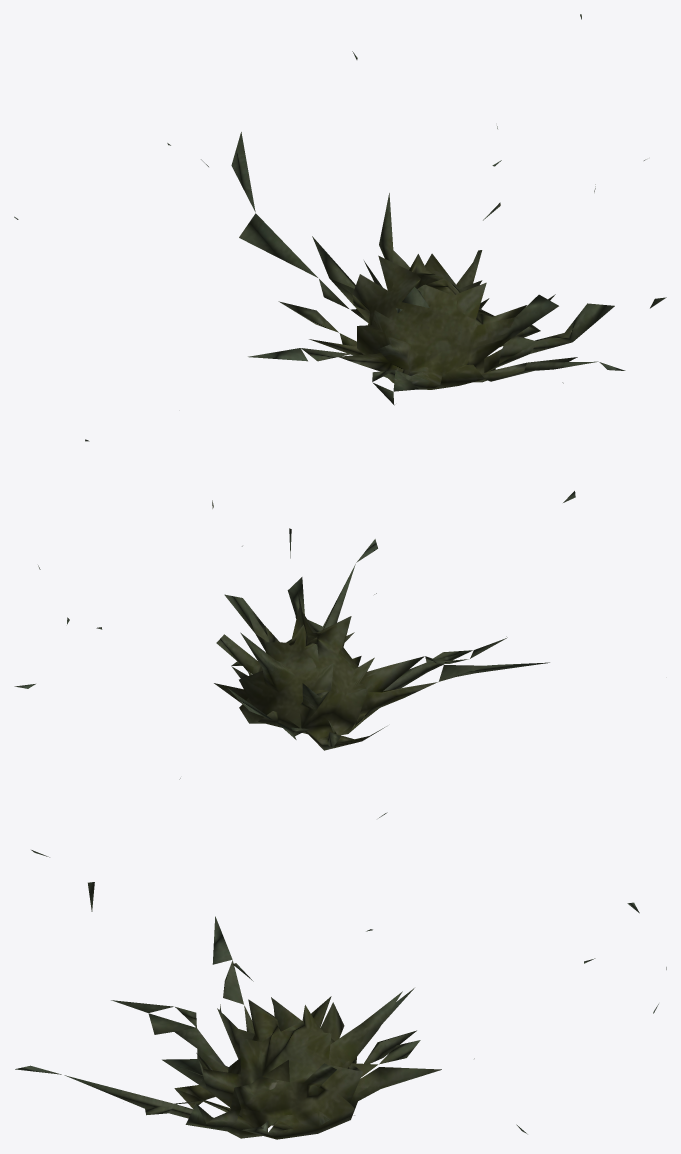
The model's file is desert-bush-1.glb.
3 renders of one model, top to bottom at view 1: azimuth 30°, elevation 25°; view 2: azimuth 150°, elevation 25°; view 3: azimuth 270°, elevation 25°, orthographic. The views are drawn at different scales.
Parts seen in each view (by area): view 1: geometry_0; view 2: geometry_0; view 3: geometry_0.
Boxes of the visible parts, box(x1,y1,x2,y2) form: geometry_0: box(14, 14, 666, 405); geometry_0: box(14, 439, 575, 818); geometry_0: box(15, 850, 666, 1139).
Size of the model in its own units: 0.7079 by 0.3394 by 0.6906.
1 material, 1 textured.
